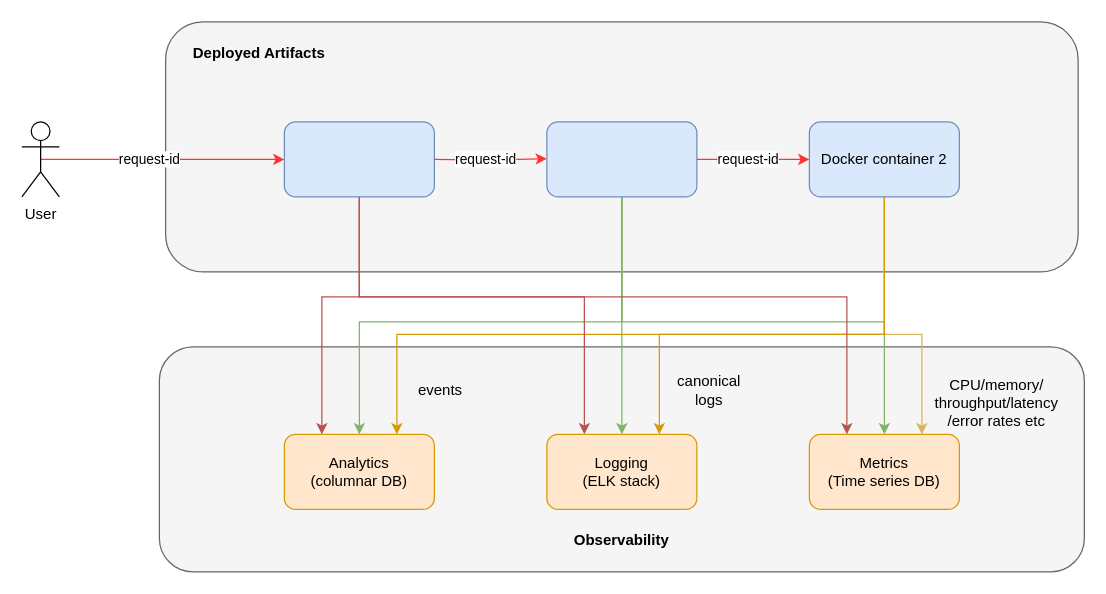
Image size: 1106x594. Some labels were removed from this diagram. The centre of each missing label's shape, as x and y in pixels:
Client Device: point 358,159
Docker container 1: point 621,159
